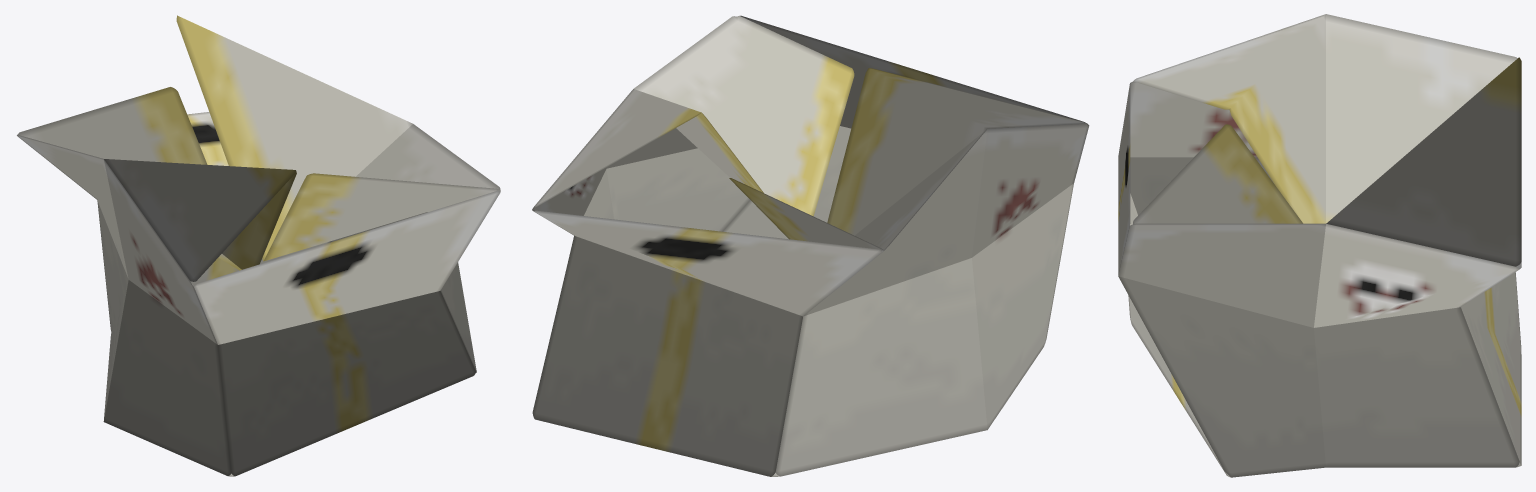
Rendered from BoxBroken1.fbx.
3 views of the same model, side by side, from view 1: azimuth 30°, elevation 25°; view 2: azimuth 150°, elevation 25°; view 3: azimuth 270°, elevation 25° (orthographic). The views are drawn at different scales.
Visible parts, largest first — view 1: BoxBroken1; view 2: BoxBroken1; view 3: BoxBroken1.
Boxes of the visible parts, x1=… form: BoxBroken1: x1=17, y1=15, x2=500, y2=476; BoxBroken1: x1=532, y1=15, x2=1089, y2=476; BoxBroken1: x1=1118, y1=14, x2=1521, y2=477.
Bounding box in the file's own units: 109 × 93.75 × 103.
Materials: 1 (1 with a texture image).
